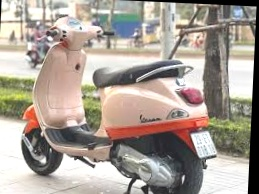Bien-so: (207, 117, 236, 144)
